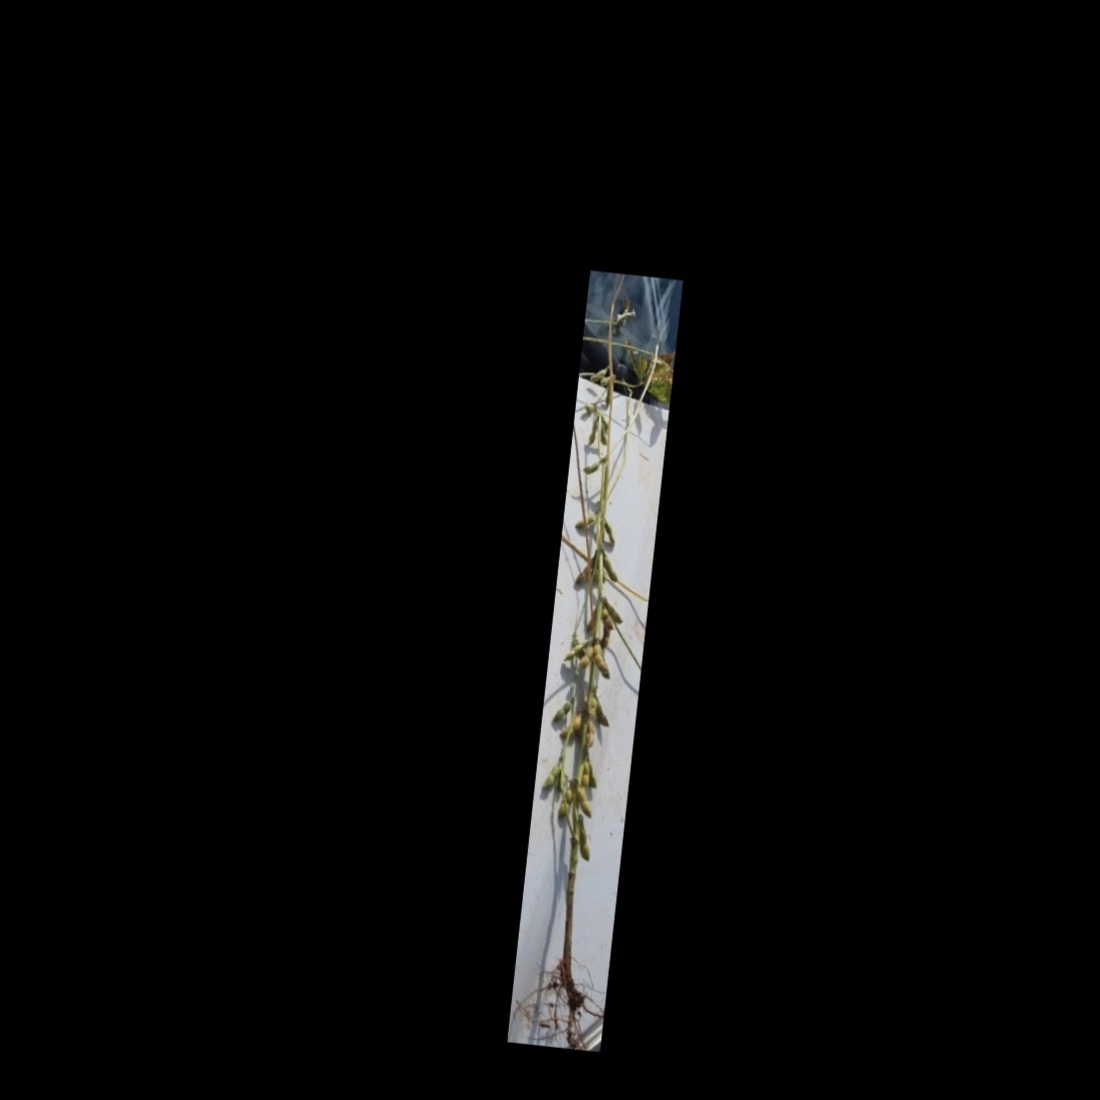pod: (574, 821, 595, 863), (560, 637, 590, 665), (558, 712, 583, 744), (540, 760, 563, 792), (574, 787, 595, 820), (551, 699, 574, 724), (557, 785, 573, 819), (585, 418, 600, 448), (588, 364, 609, 385), (602, 521, 618, 547), (573, 512, 596, 530), (584, 717, 596, 750), (579, 645, 594, 670), (578, 760, 591, 788), (580, 460, 600, 476)
soy: (515, 307, 674, 1018)
